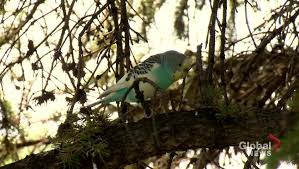budgie: (85, 50, 193, 108)
